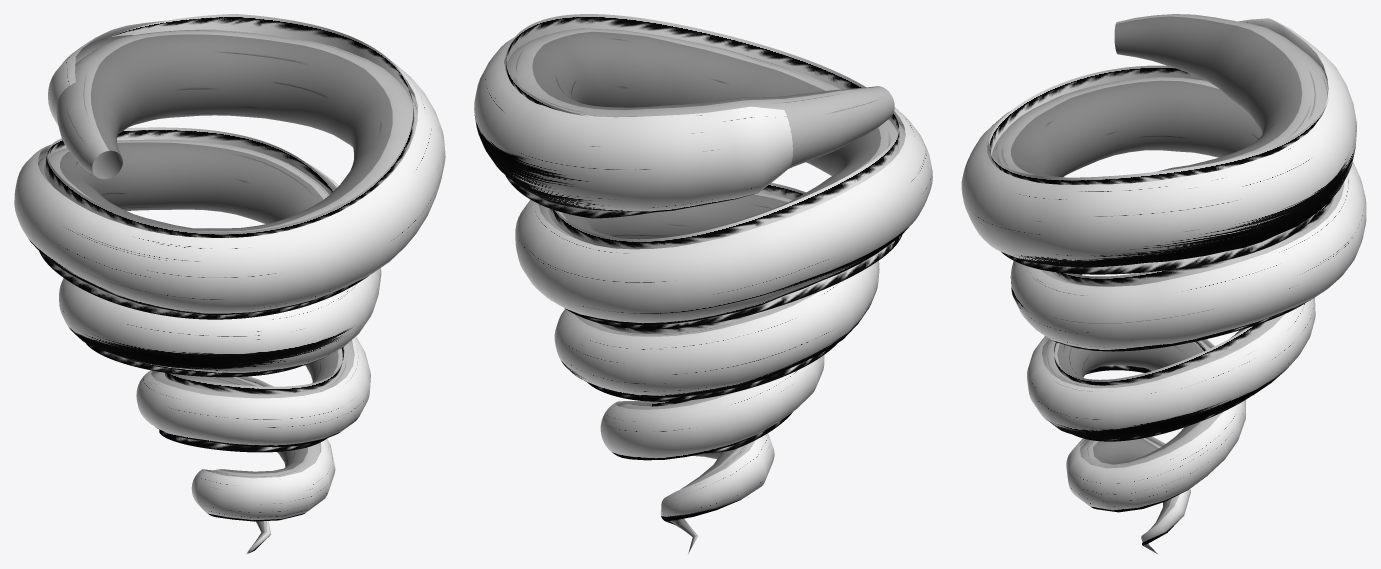
Rendered from Water_6_Main.fbx.
3 views of the same model, side by side, from view 1: azimuth 30°, elevation 25°; view 2: azimuth 150°, elevation 25°; view 3: azimuth 270°, elevation 25° (orthographic). The views are drawn at different scales.
Visible parts, largest first — view 1: SM_e_Skl_Wa_6Nej_Vortex003; view 2: SM_e_Skl_Wa_6Nej_Vortex003; view 3: SM_e_Skl_Wa_6Nej_Vortex003.
Boxes of the visible parts, x1,y1,x2,y2 form: SM_e_Skl_Wa_6Nej_Vortex003: (14, 14, 445, 554); SM_e_Skl_Wa_6Nej_Vortex003: (474, 14, 932, 553); SM_e_Skl_Wa_6Nej_Vortex003: (961, 14, 1366, 554).
Size of the model in its own units: 95.53 by 118 by 90.01.
